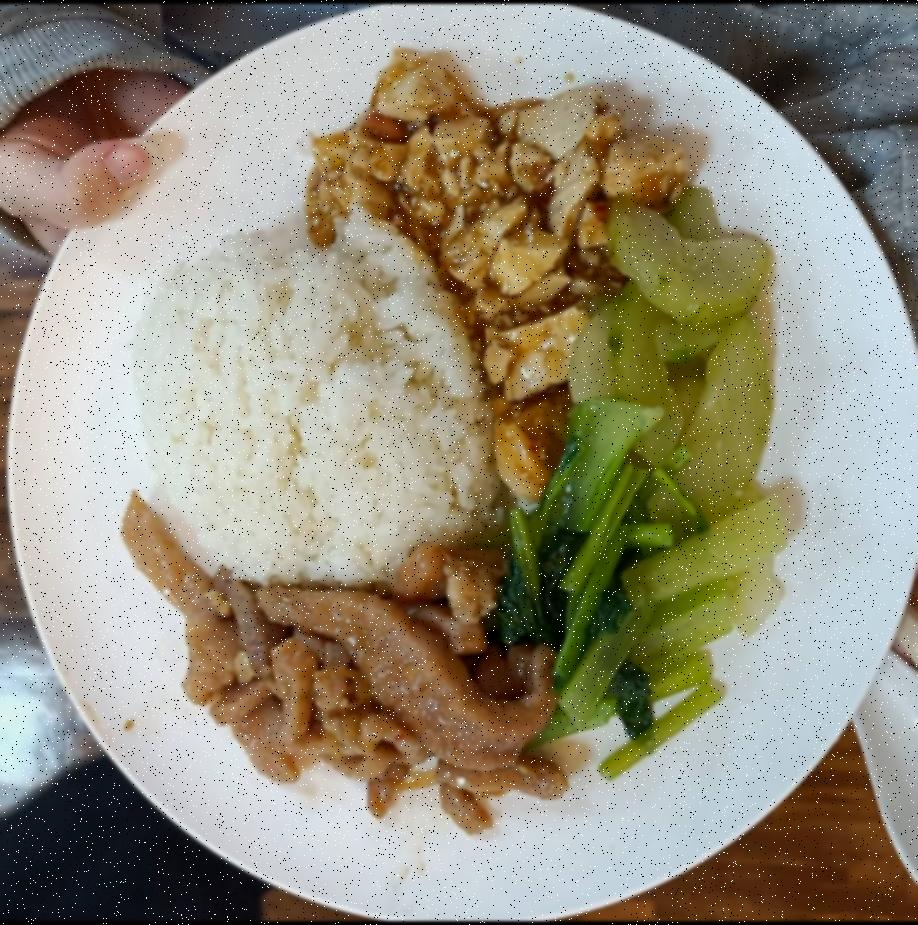big fried chicken leg: (8, 3, 918, 921)
big herbal chicken leg: (129, 222, 489, 593)
braised fish fillet: (297, 53, 694, 513), (493, 393, 801, 790), (562, 182, 782, 518)
braised pork: (99, 505, 566, 835)
